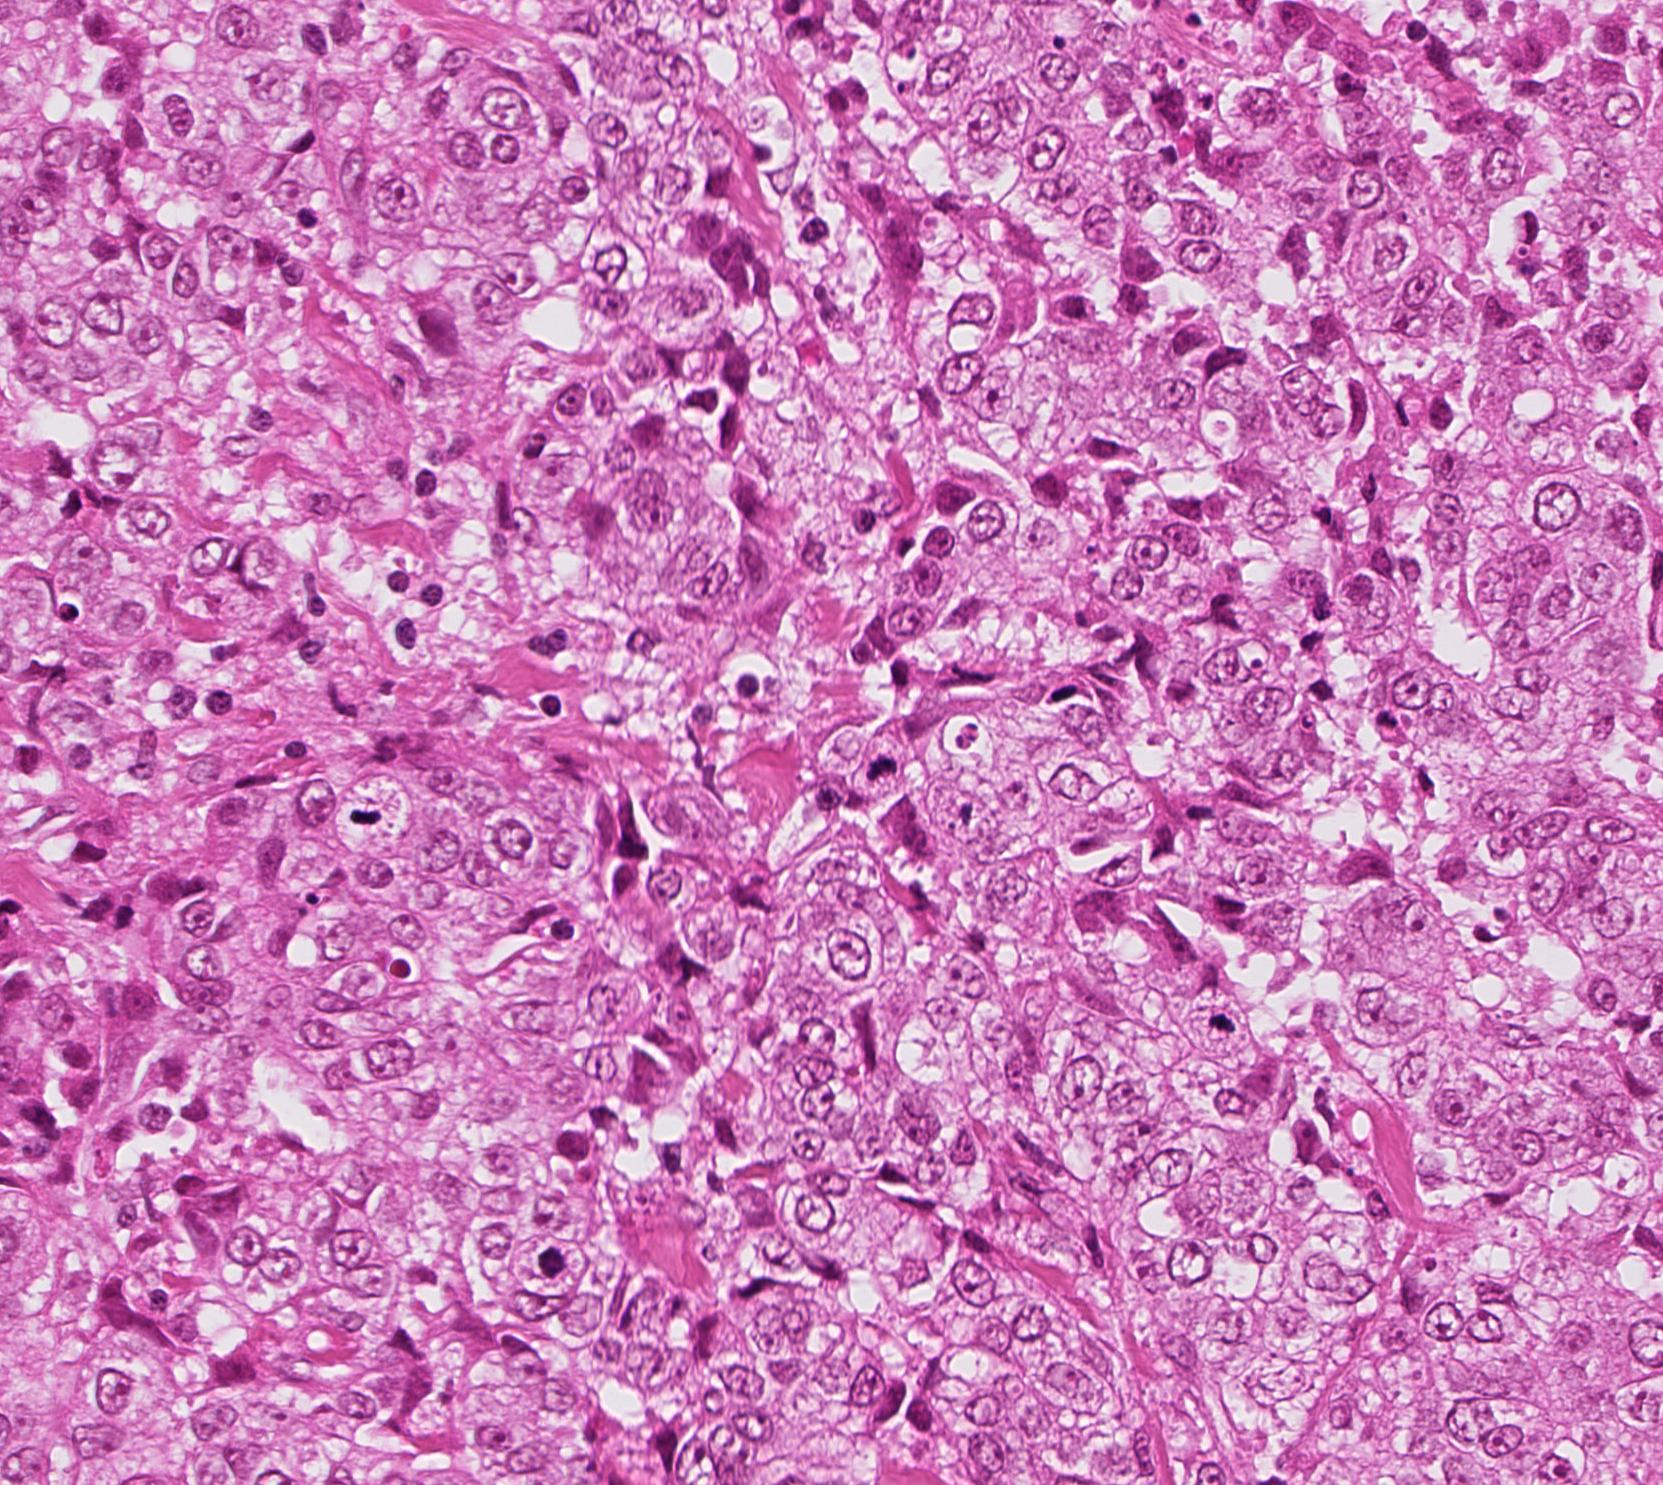mitosis: (335, 783, 396, 843), (516, 1223, 576, 1283)
